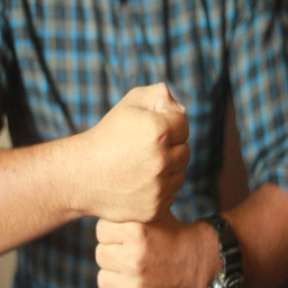G: (80, 78, 194, 288)
